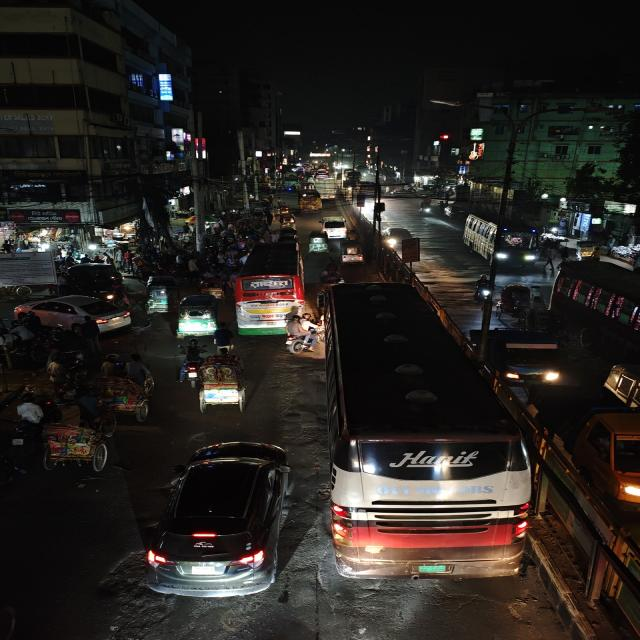bus: (322, 282, 530, 579), (549, 258, 640, 366), (231, 240, 308, 332), (460, 210, 542, 268)
car: (146, 437, 298, 601), (10, 291, 138, 337), (320, 214, 351, 240)
cng: (63, 263, 128, 297), (172, 295, 220, 337), (142, 275, 180, 315), (338, 239, 366, 267), (308, 229, 330, 253), (277, 226, 300, 242)
motorcycle: (281, 312, 318, 356), (175, 338, 206, 385), (471, 273, 497, 309)
pedestrian: (210, 326, 236, 354)
rickshaw: (36, 401, 116, 472), (192, 355, 260, 415), (94, 370, 156, 422), (494, 283, 534, 321), (198, 274, 225, 300), (298, 191, 322, 213)
truck: (570, 400, 640, 510), (472, 325, 562, 383)
